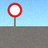sign: (8, 3, 22, 34)
